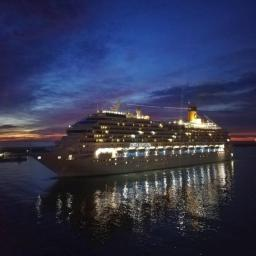cruises: (28, 102, 237, 184)
